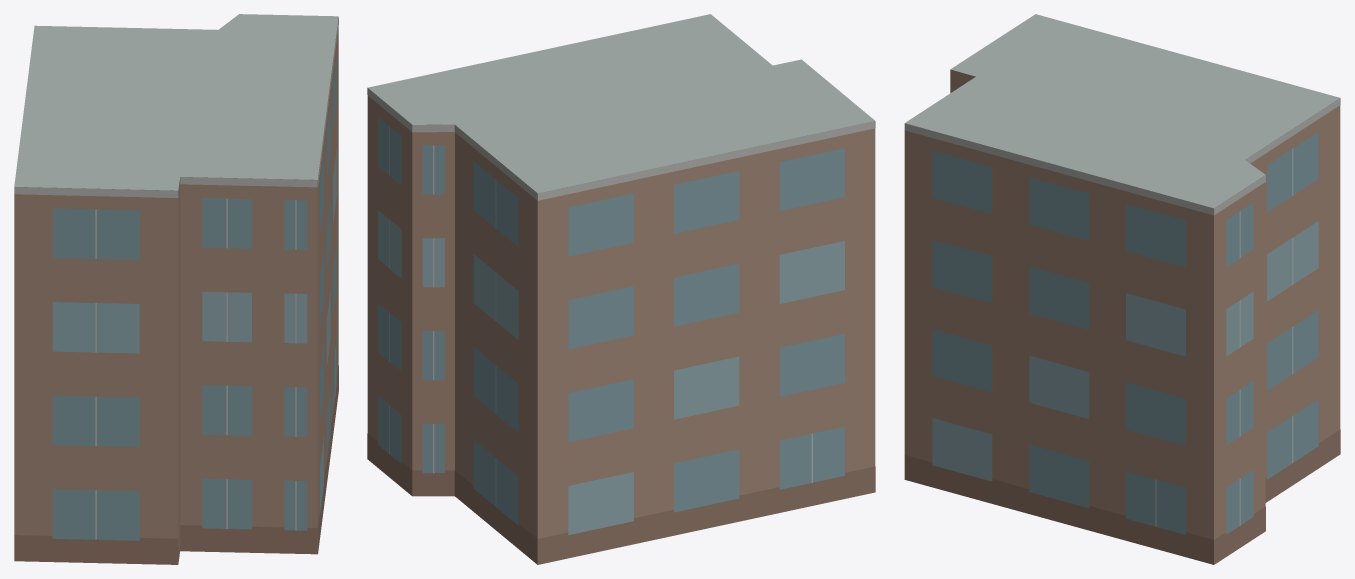
The model's file is residential-79b4fb58-278d-4af7-8377-09d40cc7386d.glb.
3 renders of one model, left to right at view 1: azimuth 30°, elevation 25°; view 2: azimuth 150°, elevation 25°; view 3: azimuth 270°, elevation 25°, orthographic. The views are drawn at different scales.
Parts seen in each view (by area): view 1: residential-79b4fb58-278d-4af7-8377-09d40cc7386d.tmp; view 2: residential-79b4fb58-278d-4af7-8377-09d40cc7386d.tmp; view 3: residential-79b4fb58-278d-4af7-8377-09d40cc7386d.tmp.
Boxes of the visible parts, box(x1,y1,x2,y2) form: residential-79b4fb58-278d-4af7-8377-09d40cc7386d.tmp: box(14, 14, 338, 564); residential-79b4fb58-278d-4af7-8377-09d40cc7386d.tmp: box(367, 14, 875, 564); residential-79b4fb58-278d-4af7-8377-09d40cc7386d.tmp: box(904, 14, 1340, 564).
Bounding box in the file's own units: 14.27 × 12.2 × 13.52.
